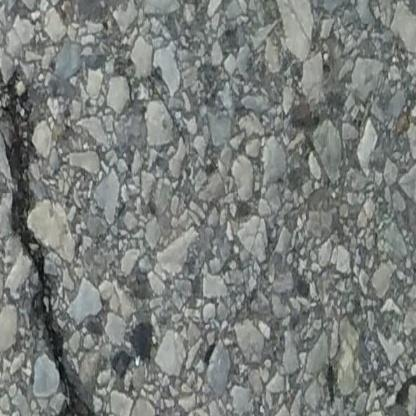Cracks: (0, 48, 101, 416)
